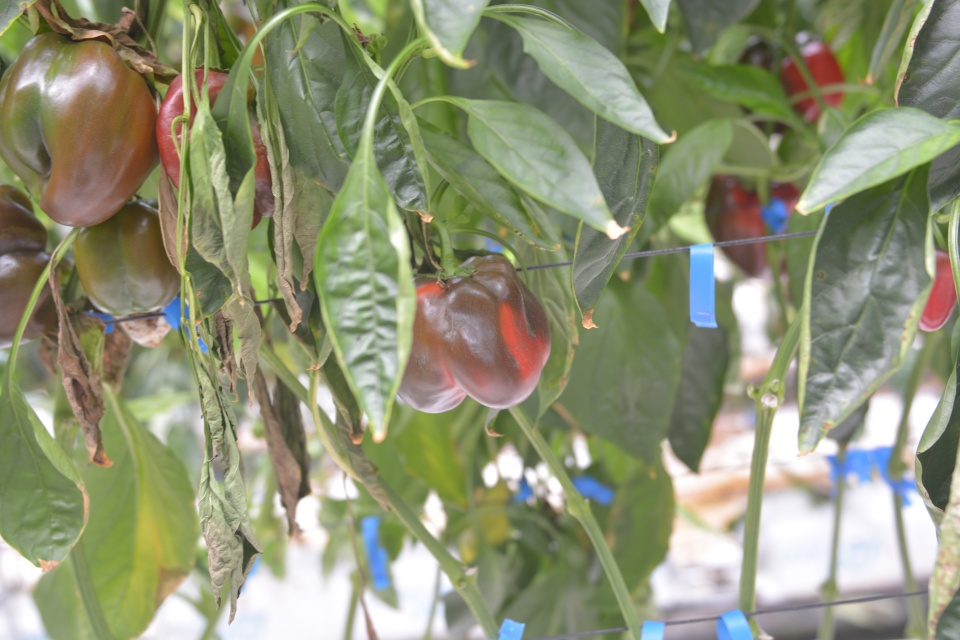fruit: (0, 28, 160, 229), (393, 253, 554, 415), (153, 64, 273, 232), (72, 199, 182, 317), (735, 29, 848, 132), (704, 171, 804, 276), (0, 181, 59, 347), (916, 245, 960, 333)
pedicle: (416, 262, 478, 279)
